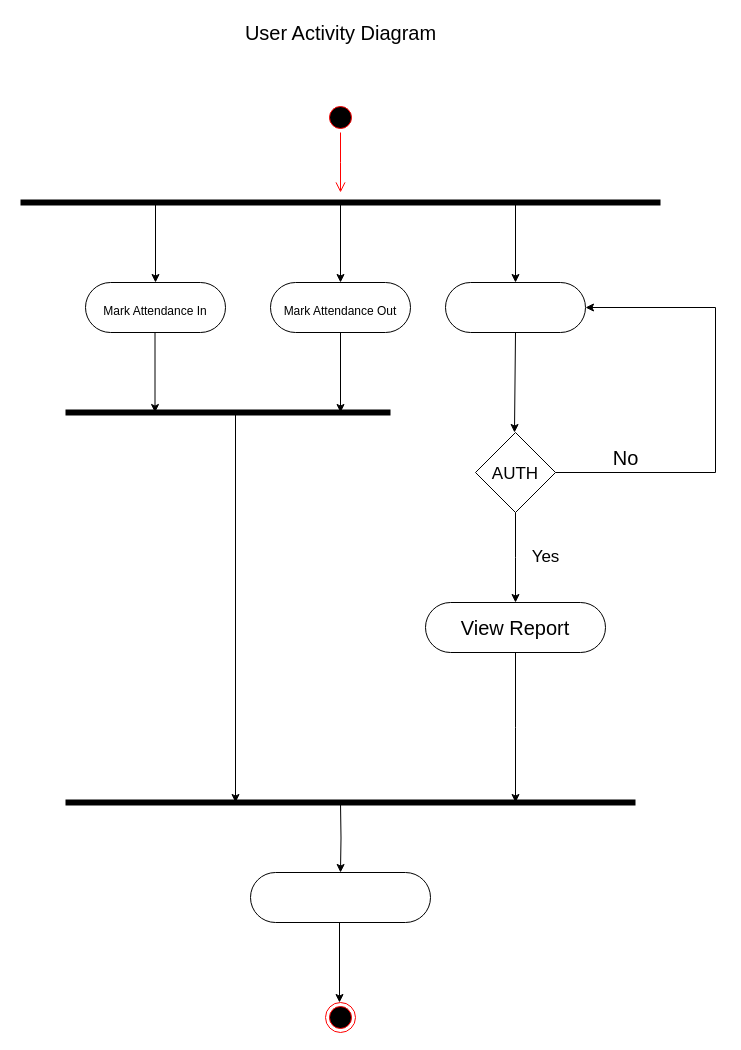
Some shapes in this 741 by 1050 pixel diagram are drawn without their labels. The centre of each missing label's shape, as x and y in pixels:
"Login" goes at point 515,307.
"Logout" goes at point 340,897.
